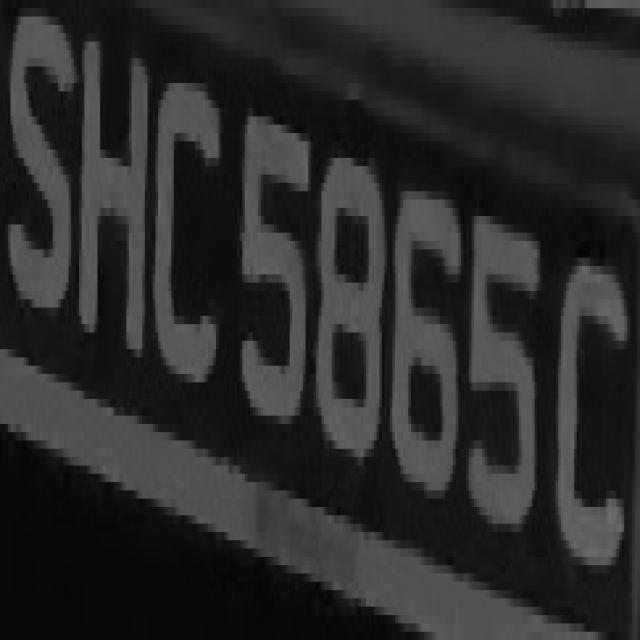5: (237, 75, 313, 449), (464, 158, 537, 540)
6: (393, 174, 466, 524)
8: (313, 125, 390, 482)
C: (148, 50, 229, 424), (553, 224, 632, 582)
H: (74, 17, 153, 374)
S: (5, 25, 82, 349)
